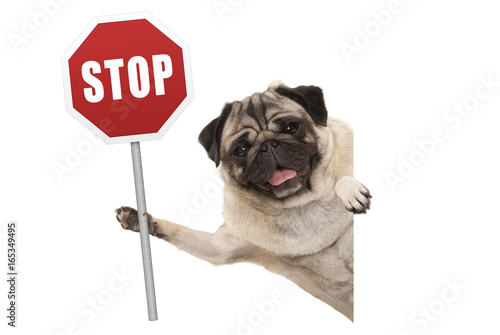StopSign: (60, 10, 194, 144)
